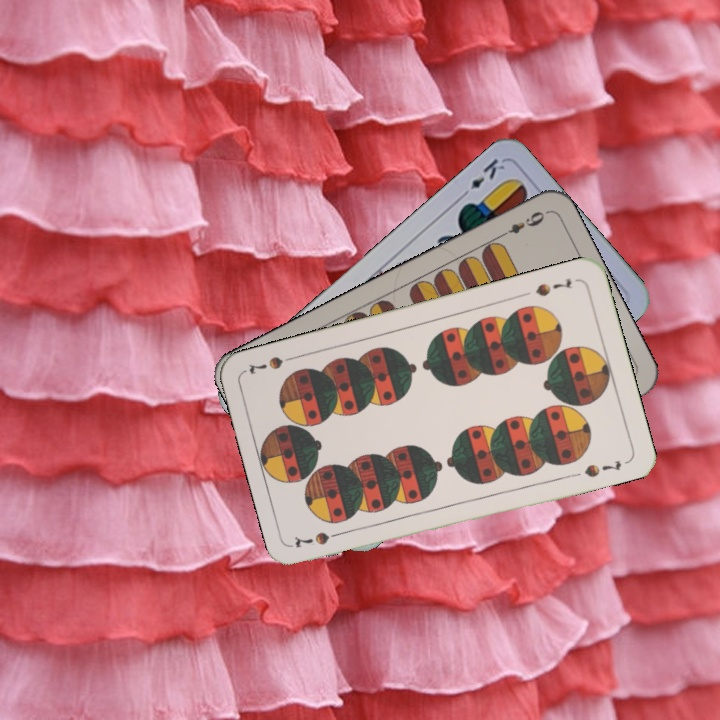E9: (494, 207, 549, 241)
EK: (456, 154, 508, 201)
S7: (291, 526, 349, 551), (531, 274, 575, 299)
